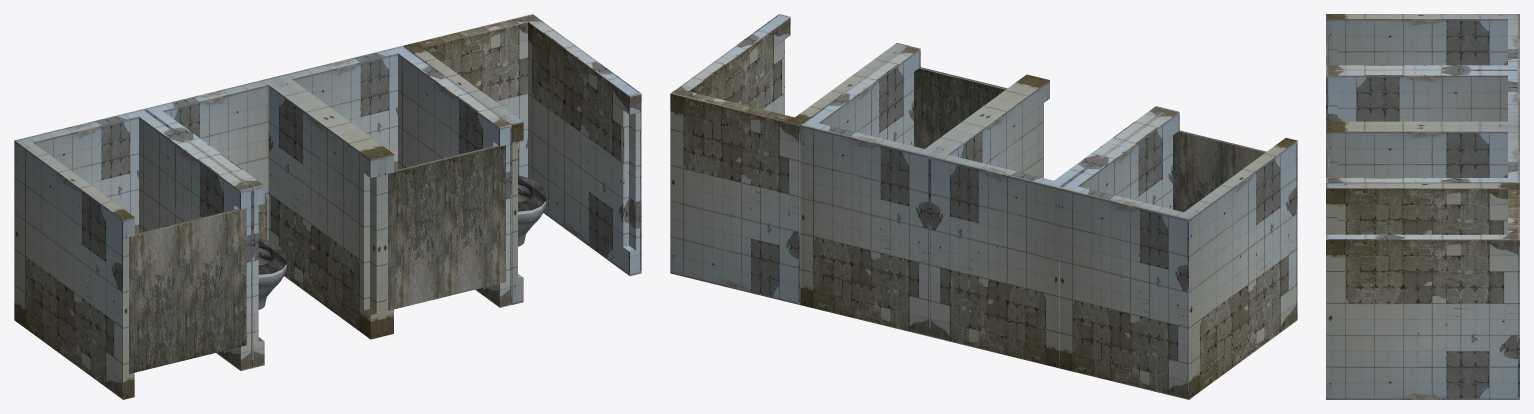
Rendered from Toilet1.FBX.
The picture shows the model from 3 angles, left to right: view 1: azimuth 30°, elevation 25°; view 2: azimuth 150°, elevation 25°; view 3: azimuth 270°, elevation 25°; orthographic projection. The views are drawn at different scales.
Visible parts, largest first — view 1: Wall001, Wall002, Wall004, Wall003, PivotDoor001, PivotDoor003, FIT_Toilet_Toilet001, FIT_Toilet_Toilet003; view 2: Wall001, Wall004, Wall002, Wall003, PivotDoor001, PivotDoor003; view 3: Wall004, Wall003, Wall002, Wall001.
Part boxes in pixels (x1=…): Wall001: x1=14, y1=109, x2=252, y2=399; Wall002: x1=144, y1=77, x2=382, y2=368; Wall004: x1=403, y1=14, x2=641, y2=304; Wall003: x1=274, y1=45, x2=511, y2=336; PivotDoor001: x1=129, y1=208, x2=246, y2=373; PivotDoor003: x1=388, y1=145, x2=505, y2=310; FIT_Toilet_Toilet001: x1=258, y1=238, x2=287, y2=309; FIT_Toilet_Toilet003: x1=518, y1=175, x2=546, y2=246; Wall001: x1=1059, y1=109, x2=1297, y2=399; Wall004: x1=670, y1=14, x2=908, y2=304; Wall002: x1=929, y1=77, x2=1167, y2=368; Wall003: x1=800, y1=45, x2=1037, y2=336; PivotDoor001: x1=1173, y1=130, x2=1266, y2=212; PivotDoor003: x1=914, y1=67, x2=1007, y2=148; Wall004: x1=1326, y1=183, x2=1519, y2=399; Wall003: x1=1326, y1=126, x2=1519, y2=183; Wall002: x1=1326, y1=70, x2=1519, y2=126; Wall001: x1=1326, y1=14, x2=1519, y2=70.
Size of the model in its own units: 88.03 by 29.28 by 31.97.
3 materials, 3 textured.
